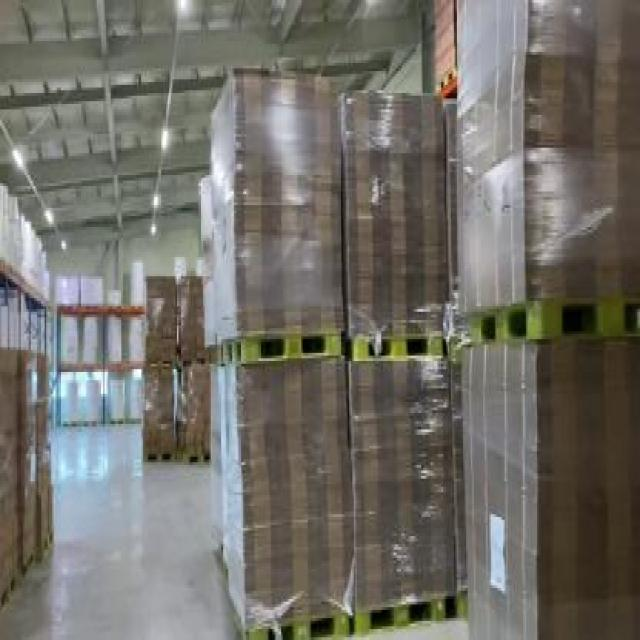box: (194, 77, 466, 637), (455, 5, 637, 638), (1, 348, 56, 626), (142, 274, 212, 471), (23, 224, 55, 298), (432, 0, 457, 88), (58, 314, 100, 364), (2, 184, 26, 266), (62, 375, 102, 424), (56, 274, 106, 306), (128, 260, 144, 309), (129, 309, 143, 364), (109, 378, 123, 422), (106, 317, 119, 361), (128, 377, 142, 416), (106, 287, 123, 309)
